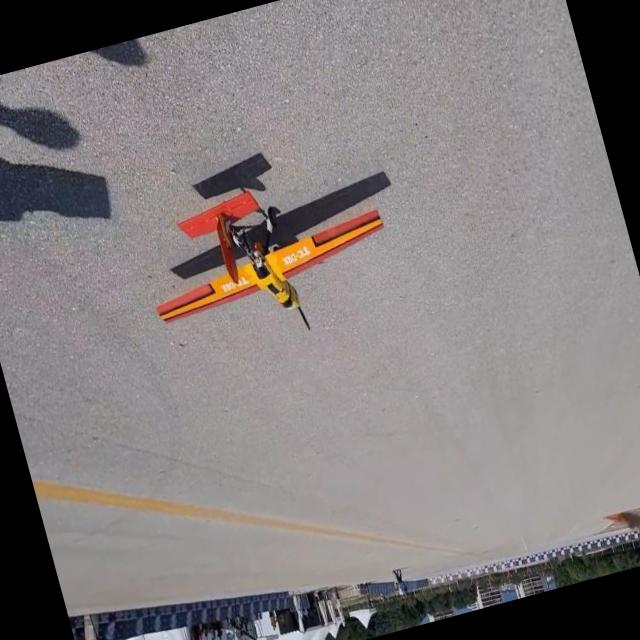UAV: (140, 128, 400, 351)
